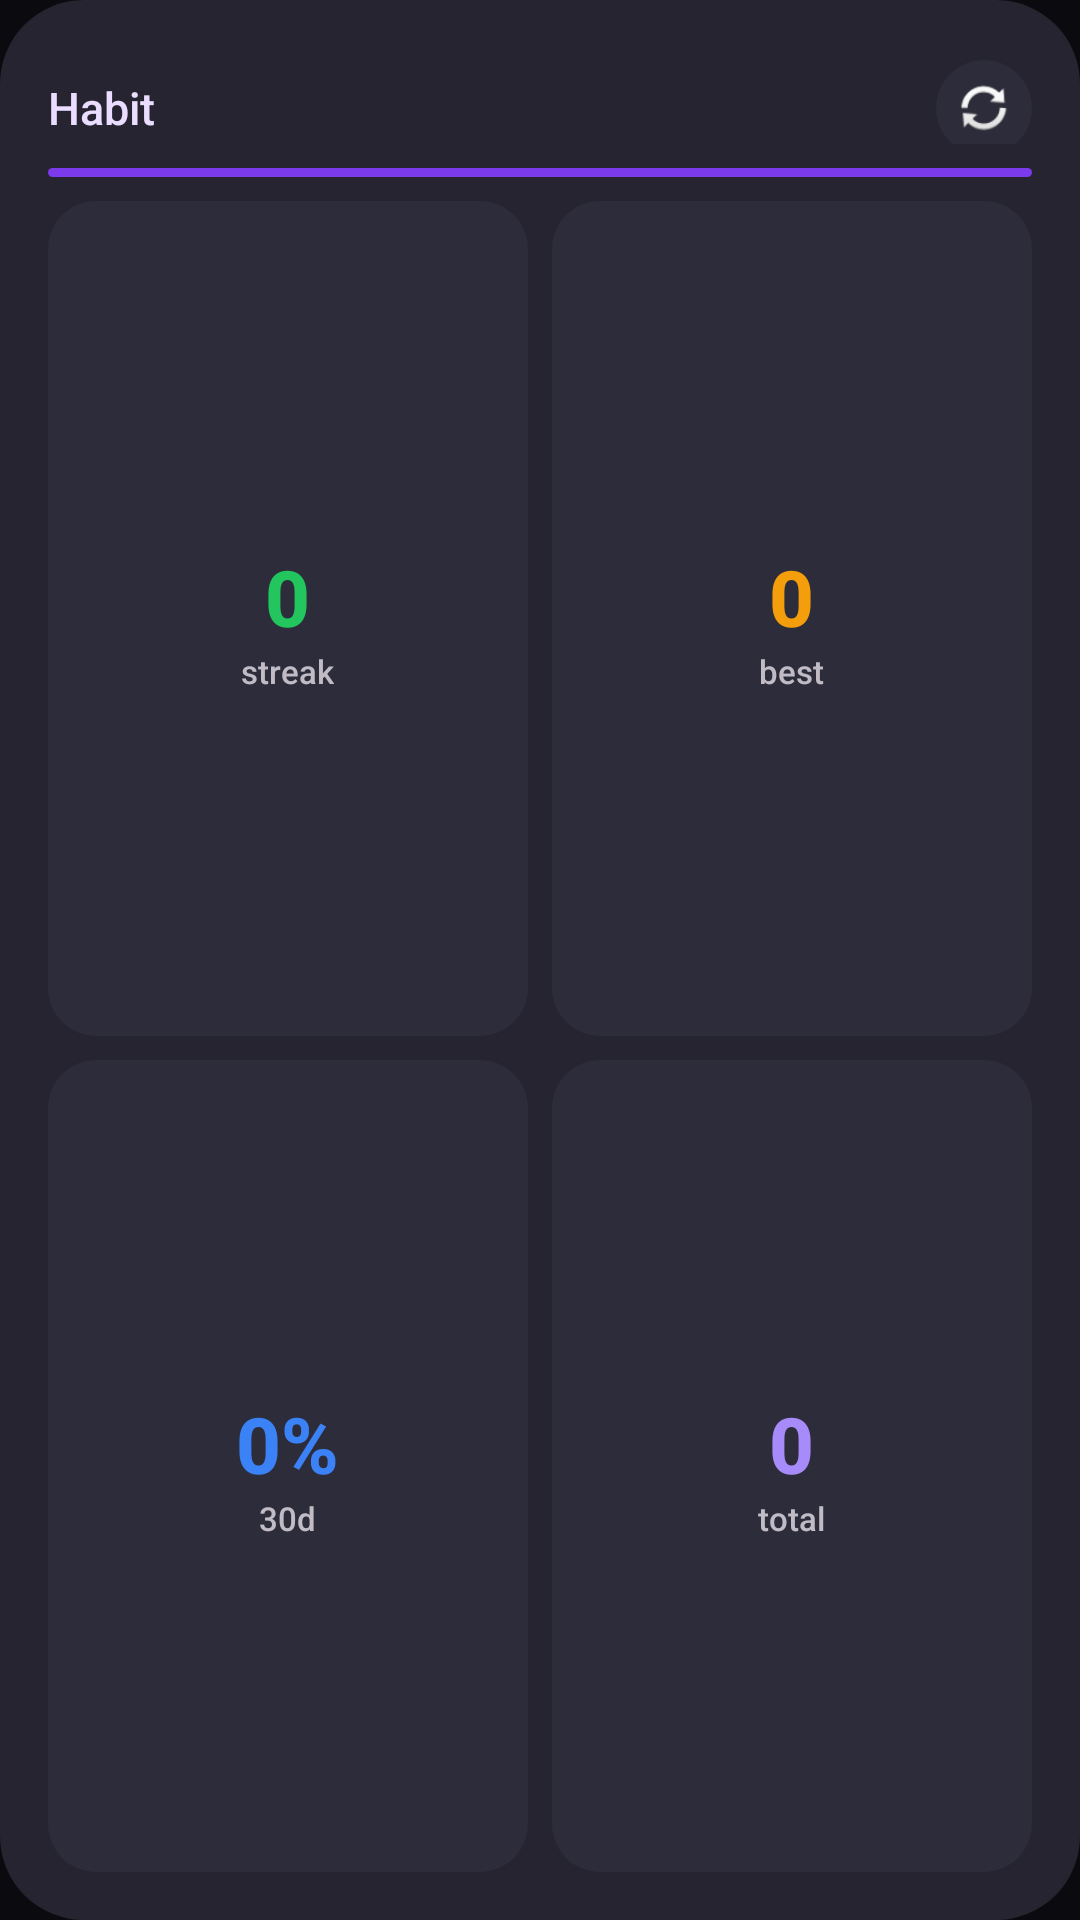

Icon bounding boxes for this 1080x1920 phone screenshot, format (x1, y1, x2, y2):
Refresh: (936, 60, 1032, 144)
